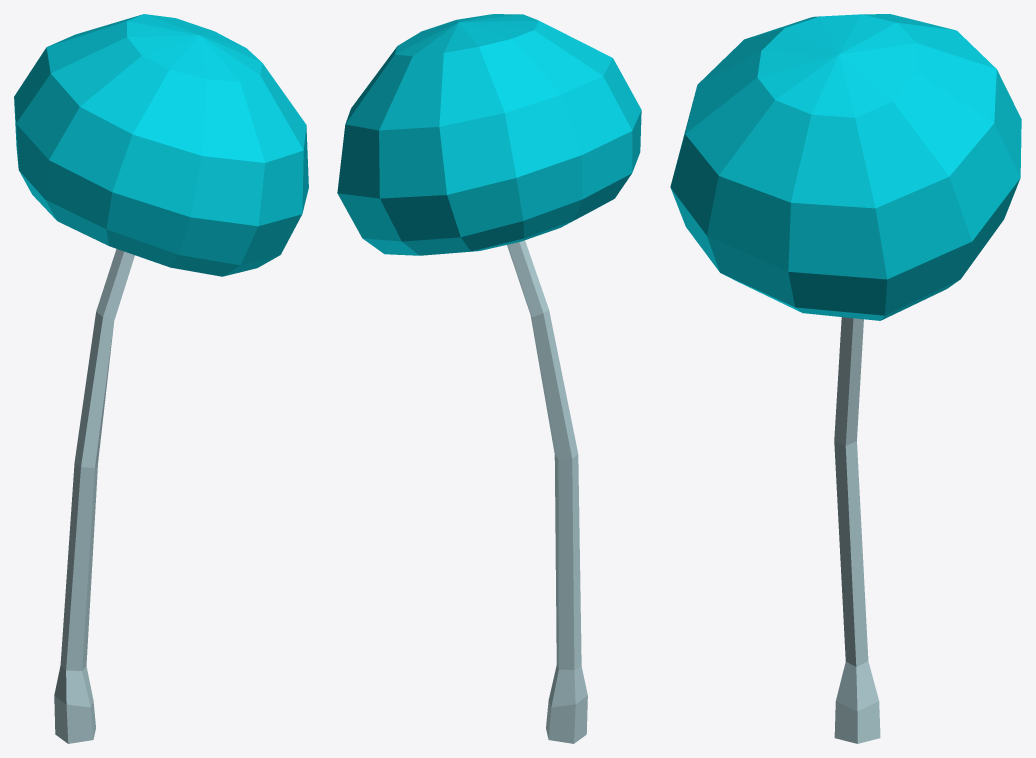
The model's file is geo_blue_mushroom_single.fbx.
3 renders of one model, left to right at view 1: azimuth 30°, elevation 25°; view 2: azimuth 150°, elevation 25°; view 3: azimuth 270°, elevation 25°, orthographic. The views are drawn at different scales.
Parts seen in each view (by area): view 1: geo_blue_mushroom_single; view 2: geo_blue_mushroom_single; view 3: geo_blue_mushroom_single.
Part boxes in pixels (x1=…): geo_blue_mushroom_single: x1=14, y1=14, x2=308, y2=743; geo_blue_mushroom_single: x1=337, y1=14, x2=641, y2=743; geo_blue_mushroom_single: x1=670, y1=14, x2=1021, y2=743.
Bounding box in the file's own units: 0.4067 × 1.03 × 0.4387.
